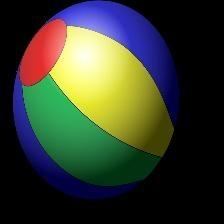Sports-Ball: (7, 2, 181, 196)
